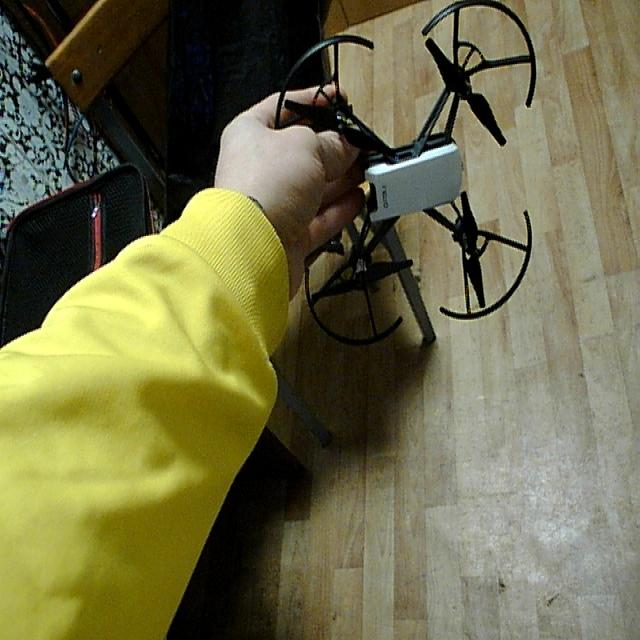drone: (271, 0, 549, 356)
